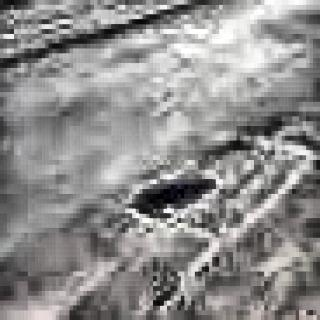pothole: (132, 168, 214, 213)
